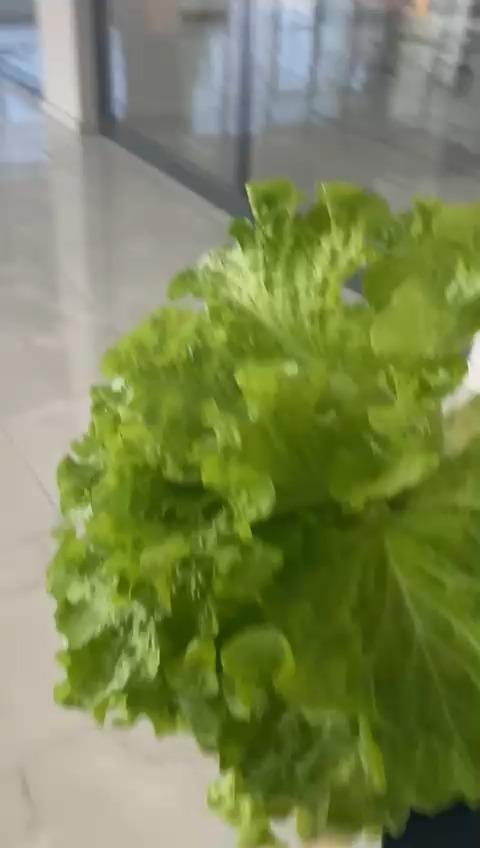Healthy: (45, 175, 480, 848)
